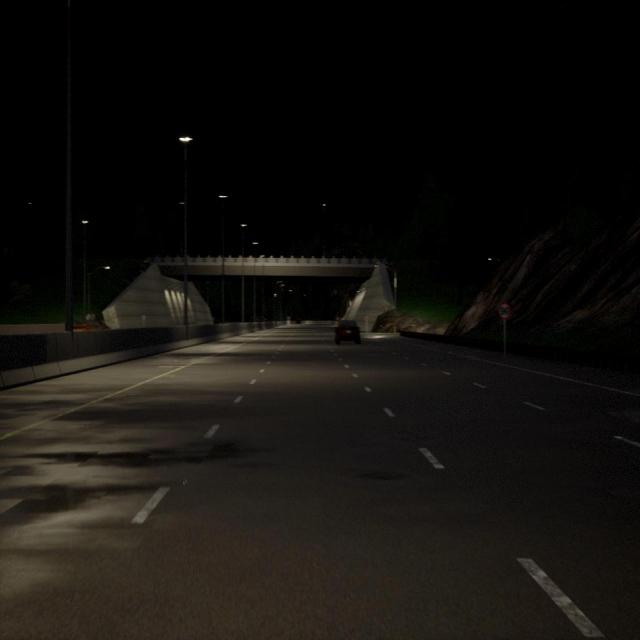Traffic_Signs: (498, 302, 511, 319), (86, 314, 90, 320), (91, 314, 95, 320), (364, 316, 368, 321), (142, 315, 146, 320), (336, 317, 339, 320)
Vehicle: (335, 320, 361, 345), (296, 318, 301, 324)
